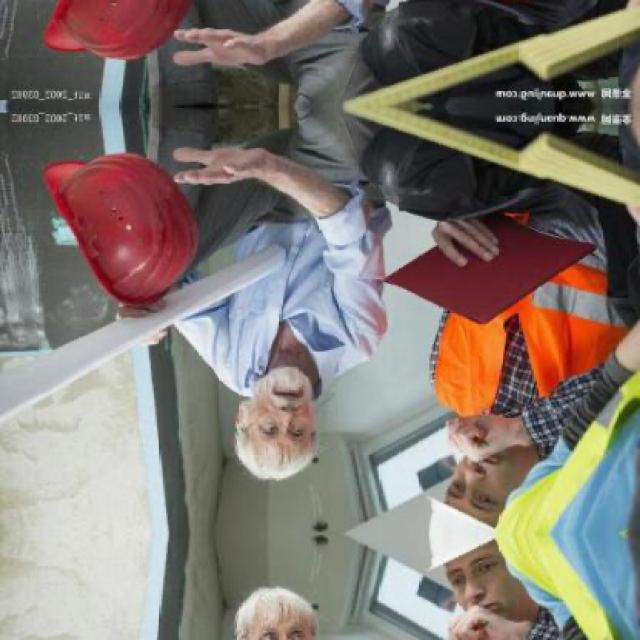sin casco: (197, 332, 378, 502)
